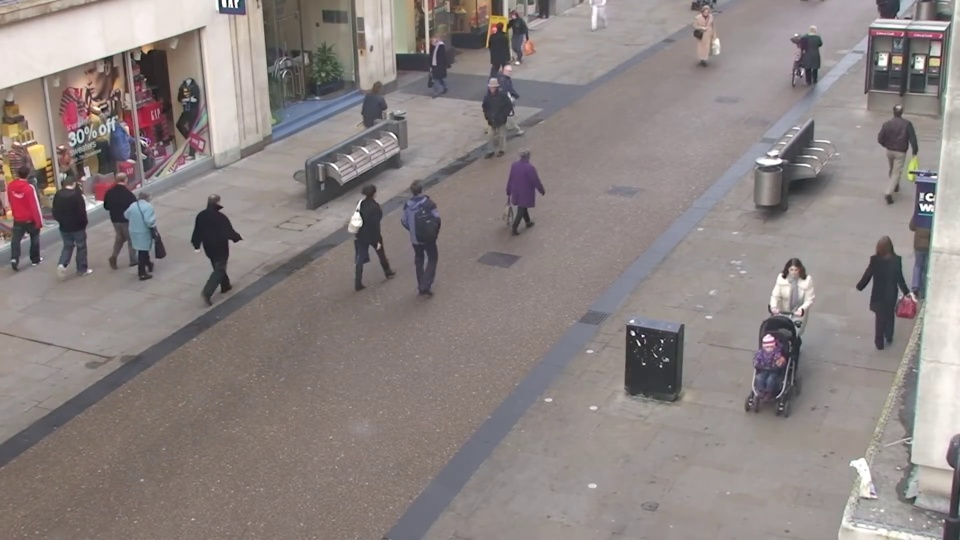pedestrian: (736, 329, 790, 481), (765, 254, 814, 387), (856, 227, 907, 354), (7, 159, 61, 264), (55, 166, 105, 273), (133, 180, 180, 290), (109, 163, 155, 269), (206, 181, 249, 293), (362, 174, 402, 285), (407, 171, 445, 283), (877, 93, 919, 187), (515, 138, 549, 240), (370, 76, 401, 160), (474, 81, 504, 167), (503, 61, 531, 142), (796, 21, 826, 94), (420, 30, 446, 101), (492, 16, 517, 84), (694, 4, 718, 70), (499, 8, 522, 74)
